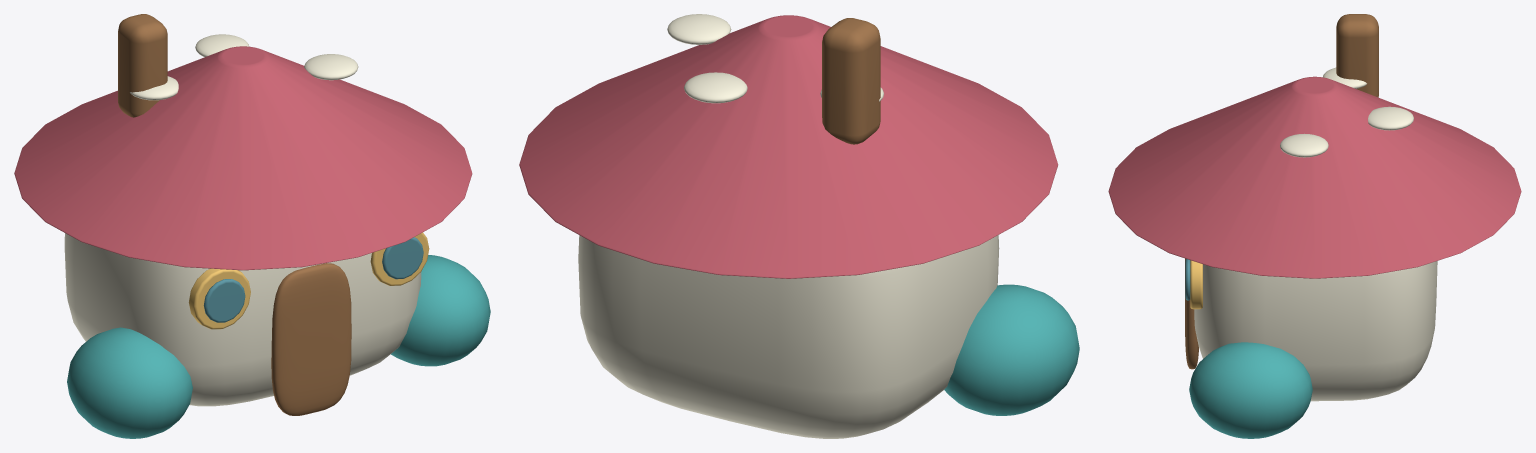
File: Decor_Meadow.fbx
3 views of the same model, side by side, from view 1: azimuth 30°, elevation 25°; view 2: azimuth 150°, elevation 25°; view 3: azimuth 270°, elevation 25° (orthographic). The views are drawn at different scales.
Parts seen in each view (by area): view 1: Mushroom roof, Cottage, Door, Garden shrub, Garden shrub.001, Chimney, Round window, Blue glass, Blue glass.001, Roof spot.001, Round window.001, Roof spot.002 (+1 smaller); view 2: Mushroom roof, Cottage, Garden shrub, Chimney, Roof spot.002, Roof spot.001; view 3: Mushroom roof, Cottage, Garden shrub.001, Chimney, Roof spot.001, Roof spot.002, Door, Round window.001.
Boxes of the visible parts, box(x1,y1,x2,y2) form: Mushroom roof: box(14, 46, 472, 270); Cottage: box(64, 233, 421, 406); Door: box(271, 263, 351, 415); Garden shrub: box(67, 327, 192, 438); Garden shrub.001: box(391, 255, 490, 366); Chimney: box(118, 14, 167, 117); Round window: box(188, 268, 250, 329); Blue glass: box(203, 279, 245, 322); Blue glass.001: box(382, 237, 423, 279); Roof spot.001: box(304, 54, 358, 80); Round window.001: box(370, 232, 429, 285); Roof spot.002: box(195, 34, 249, 57); Mushroom roof: box(519, 15, 1058, 278); Cottage: box(578, 235, 999, 438); Garden shrub: box(944, 284, 1079, 415); Chimney: box(822, 18, 880, 144); Roof spot.002: box(684, 72, 747, 103); Roof spot.001: box(667, 14, 731, 44); Mushroom roof: box(1108, 76, 1521, 278); Cottage: box(1194, 261, 1437, 401); Garden shrub.001: box(1189, 342, 1312, 438); Chimney: box(1336, 14, 1378, 97); Roof spot.001: box(1280, 133, 1328, 157); Roof spot.002: box(1368, 106, 1413, 130); Door: box(1185, 258, 1198, 369); Round window.001: box(1190, 260, 1202, 309).
Size of the model in its own units: 394 by 327 by 387.
